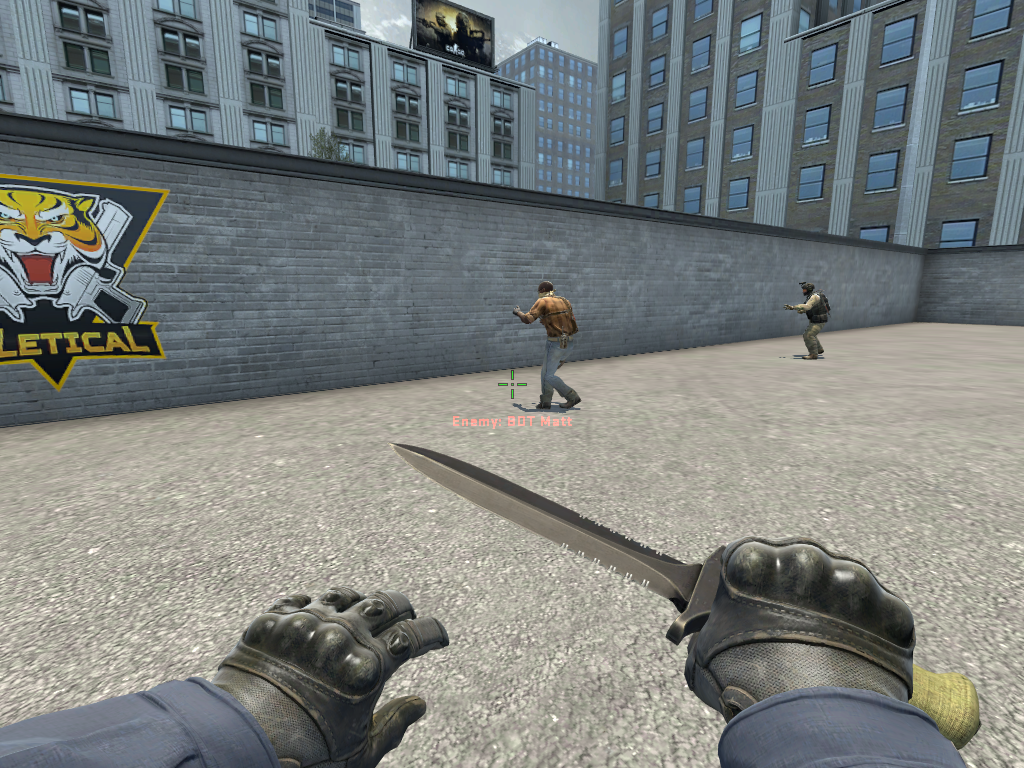ct head: (797, 279, 817, 297)
tr head: (534, 278, 558, 304)
